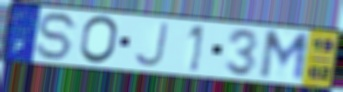1: (185, 25, 207, 73)
3: (225, 28, 262, 78)
J: (132, 21, 171, 69)
M: (257, 29, 312, 84)
O: (77, 14, 120, 66)
S: (34, 11, 81, 62)
